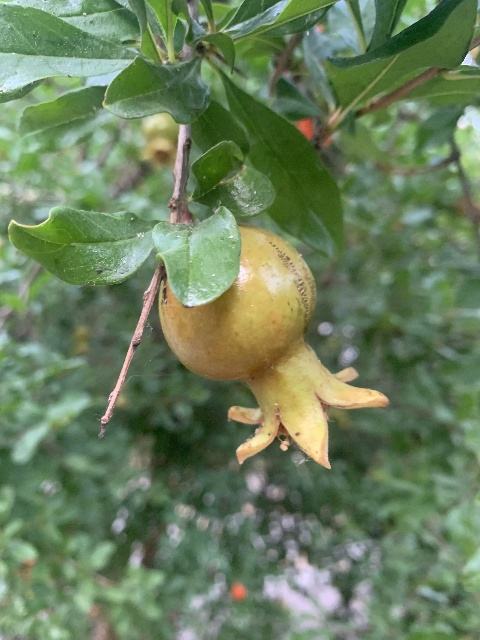mid-growth: (160, 224, 390, 473), (140, 112, 180, 169)
